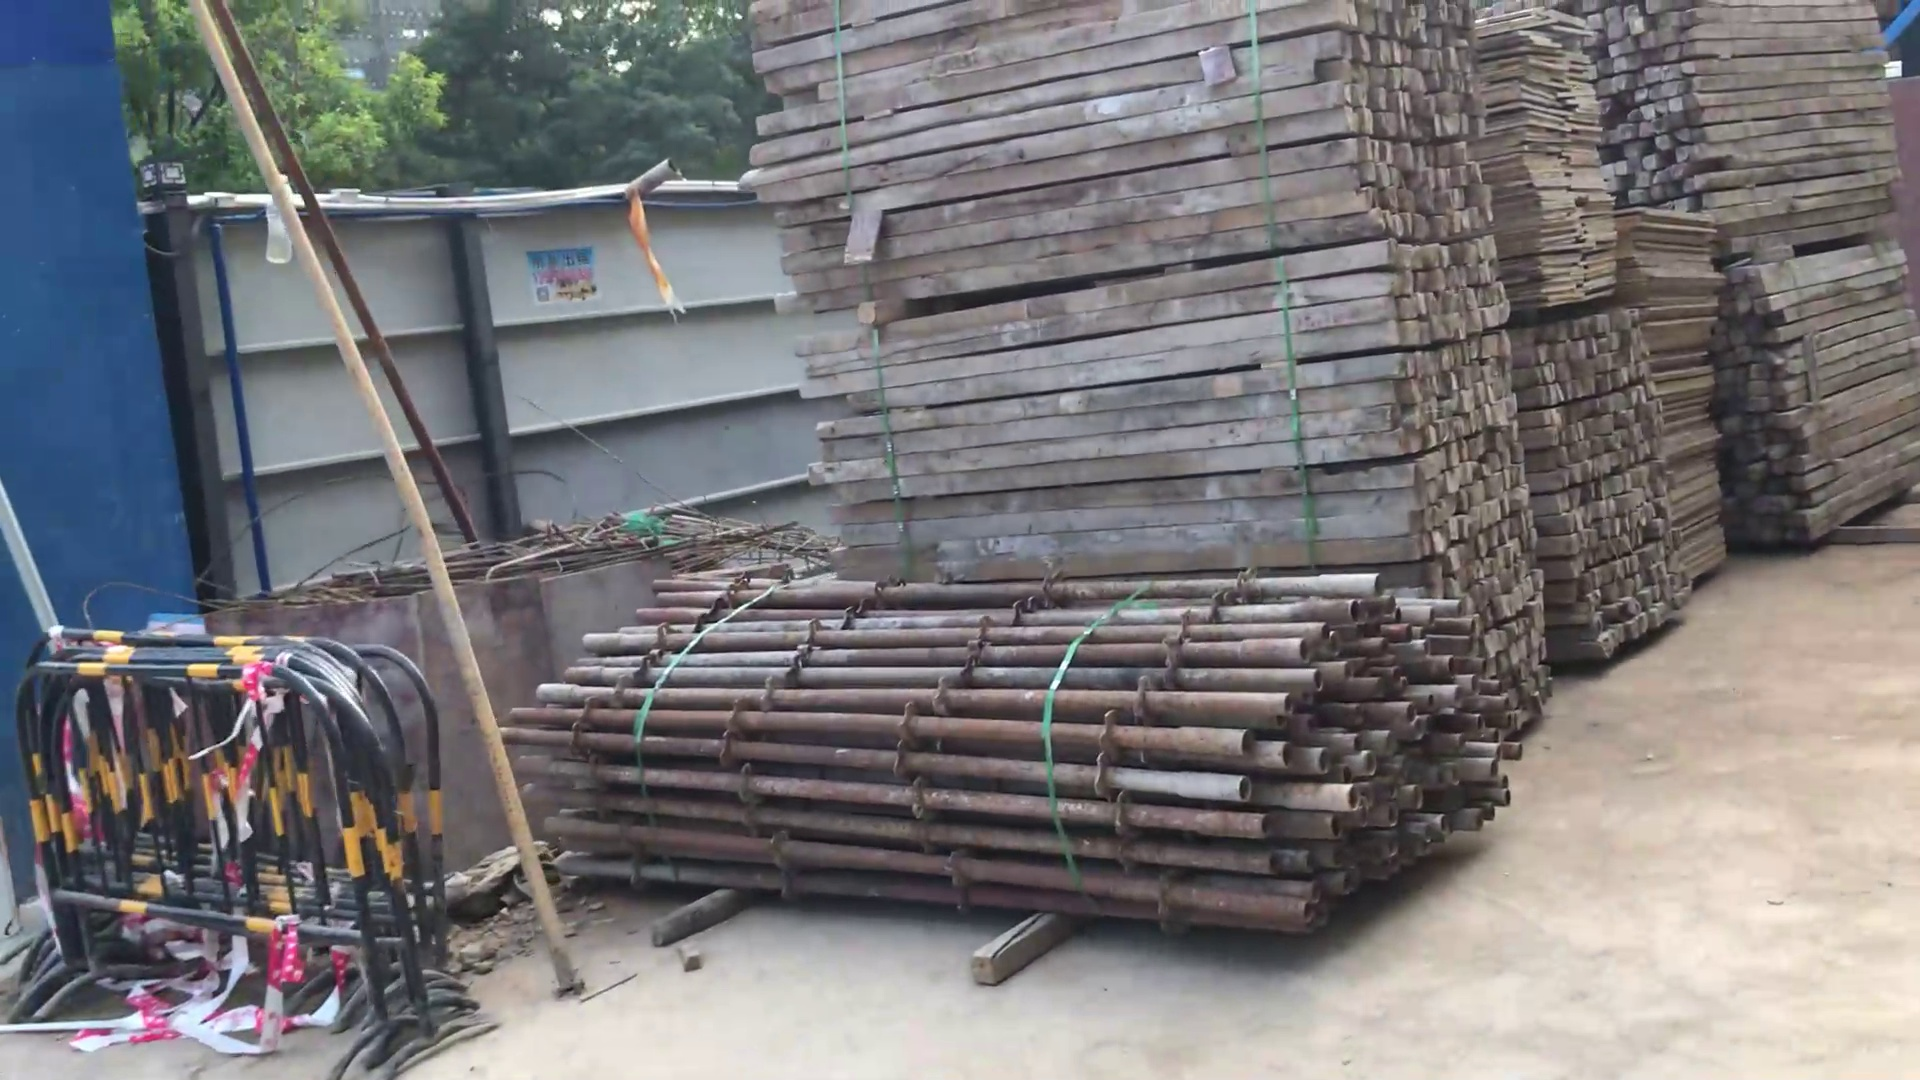board: (1466, 5, 1625, 307), (1634, 193, 1735, 597)
scaffold: (502, 564, 1531, 931)
wood: (735, 1, 1581, 712), (1588, 3, 1920, 559), (1480, 295, 1696, 678)
